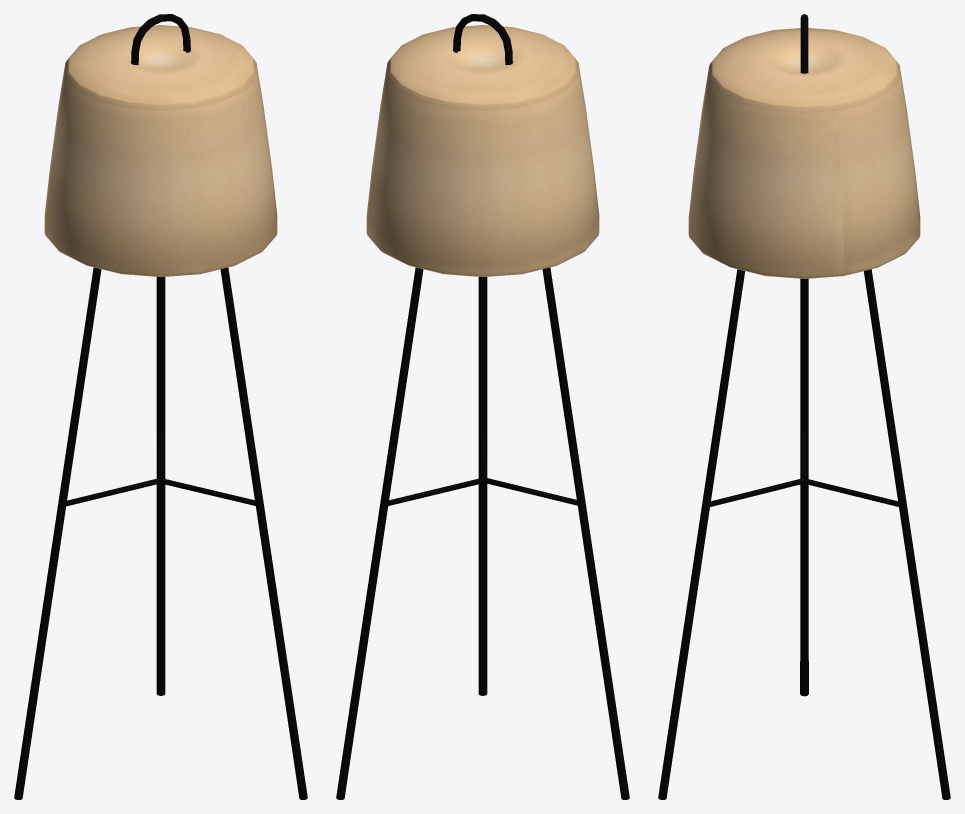
Rendered from SM_Outdoor_Light_010.FBX.
3 views of the same model, side by side, from view 1: azimuth 30°, elevation 25°; view 2: azimuth 150°, elevation 25°; view 3: azimuth 270°, elevation 25° (orthographic).
Parts seen in each view (by area): view 1: SM_Outdoor_Light_010; view 2: SM_Outdoor_Light_010; view 3: SM_Outdoor_Light_010.
Boxes of the visible parts, box(x1,y1,x2,y2) form: SM_Outdoor_Light_010: box(14, 14, 307, 799); SM_Outdoor_Light_010: box(336, 14, 629, 799); SM_Outdoor_Light_010: box(658, 14, 950, 799).
Size of the model in its own units: 26.57 by 27.18 by 76.53.
